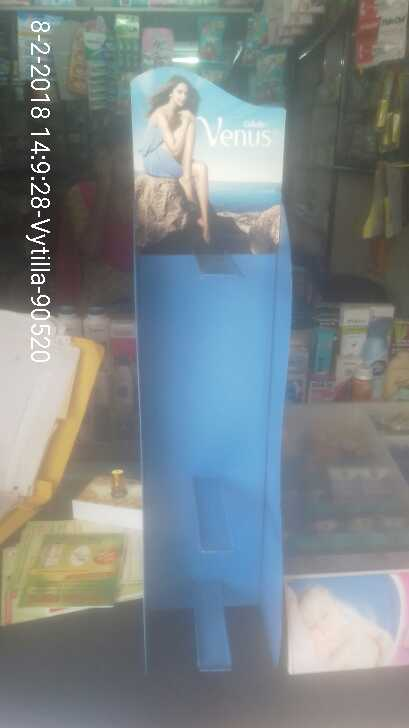reject: (176, 268, 213, 302)
